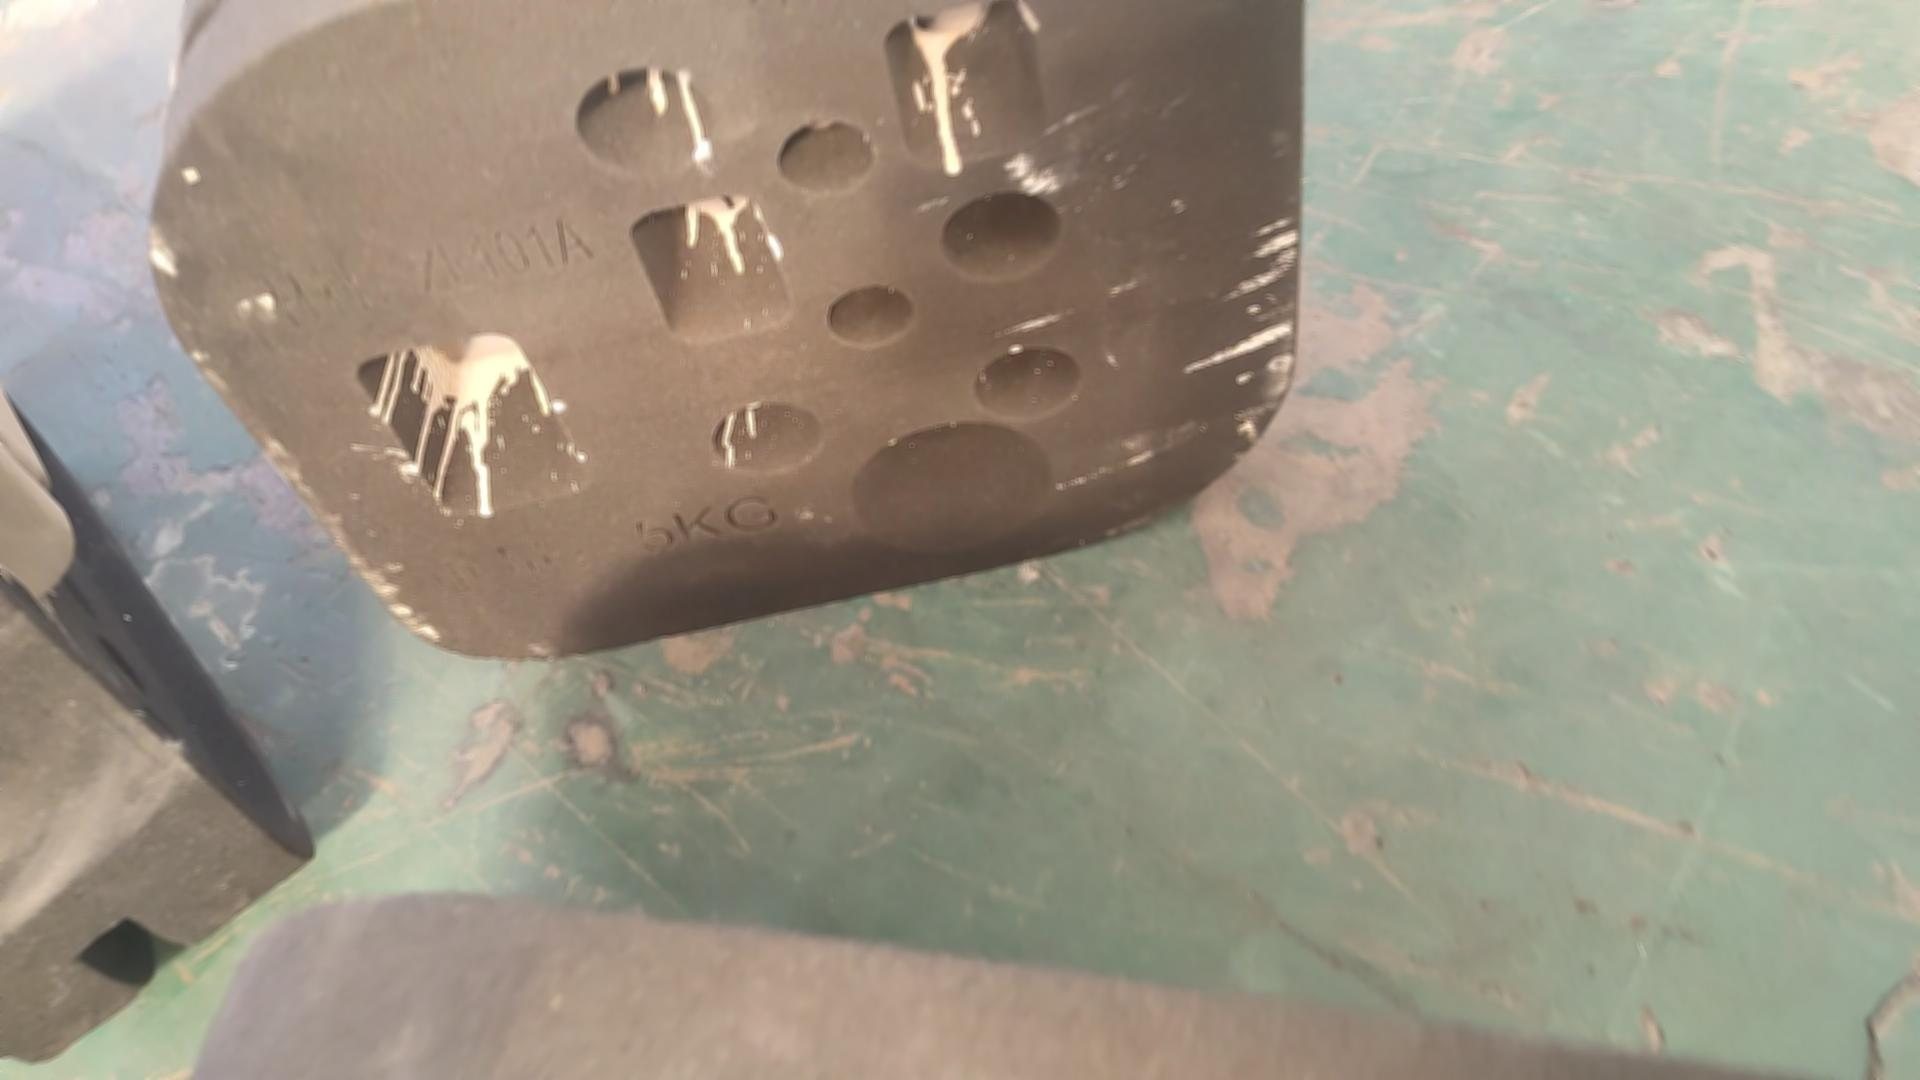pouring hole: (849, 419, 1050, 549)
